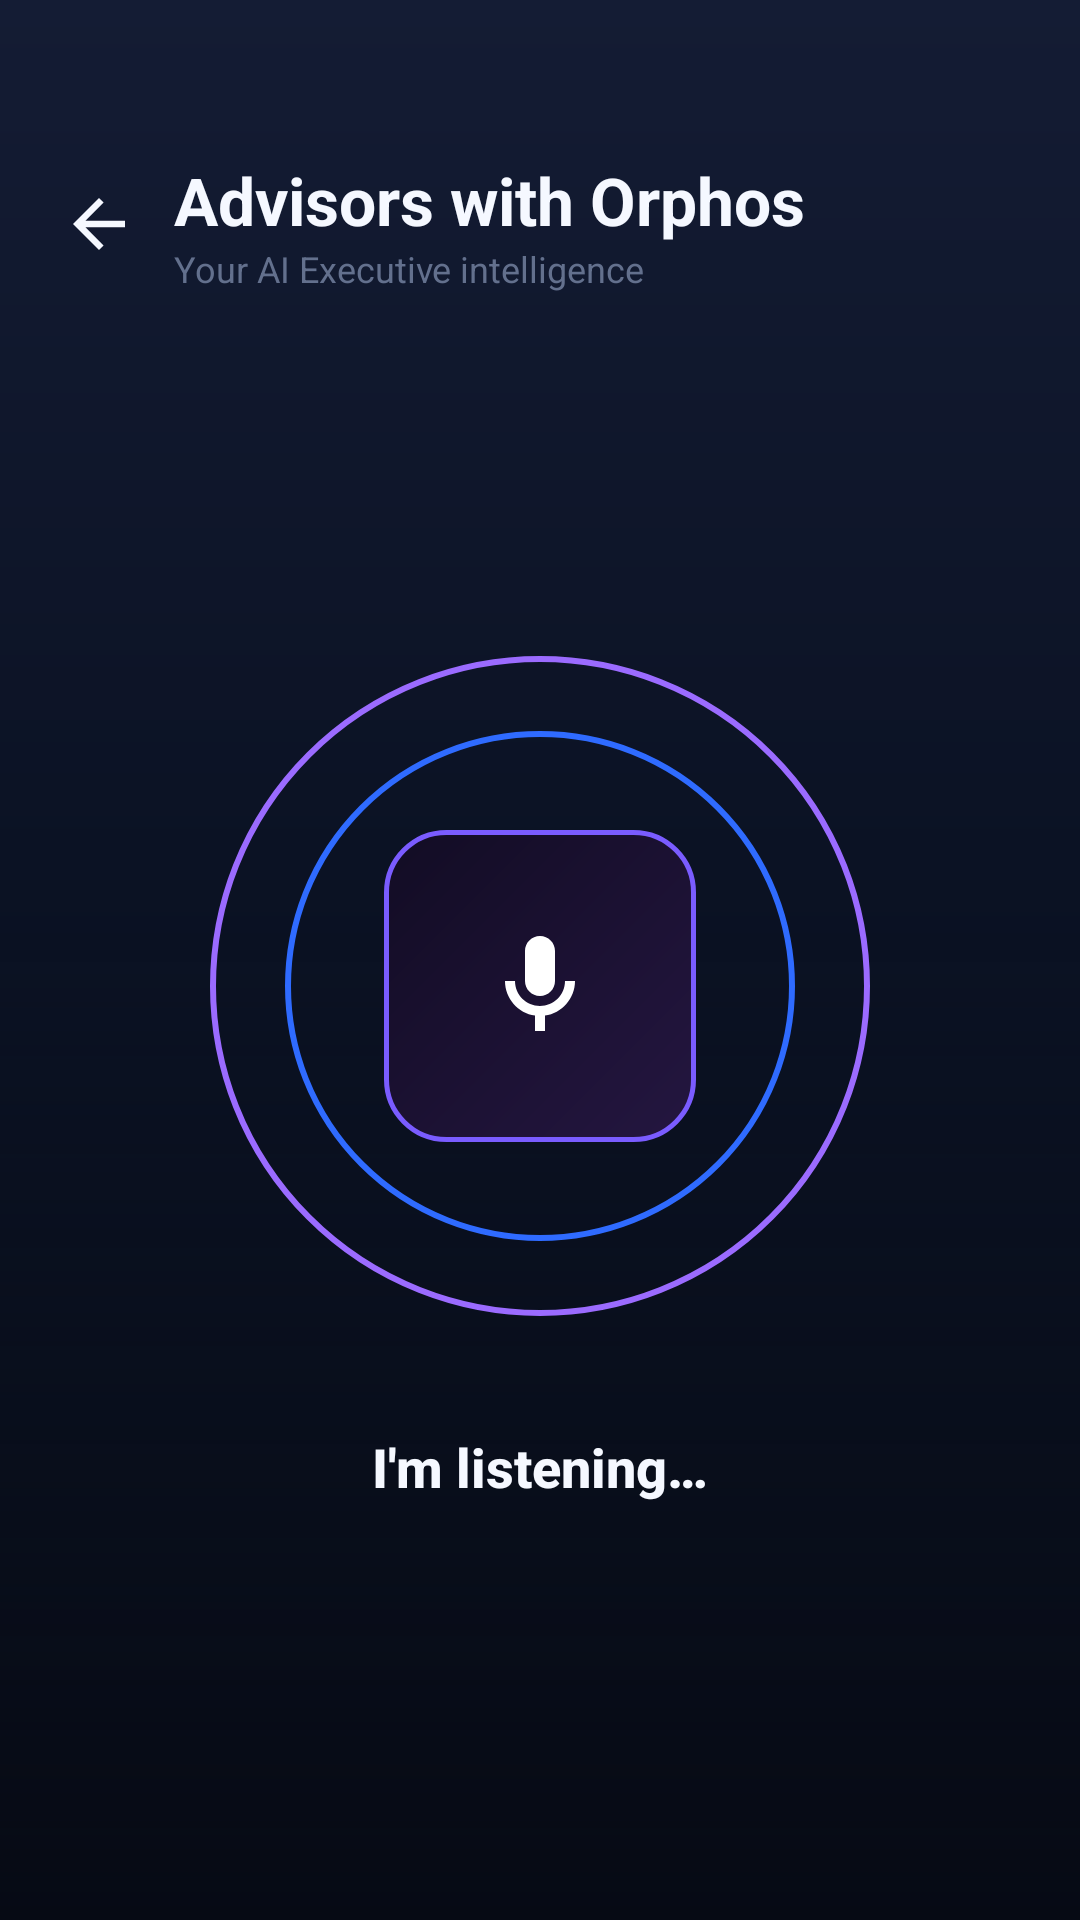

Point at icon controls on the screen. Image size 1080*1920, points as (x=x, y=y).
arrow back: (x=99, y=224)
mic: (x=540, y=983)
